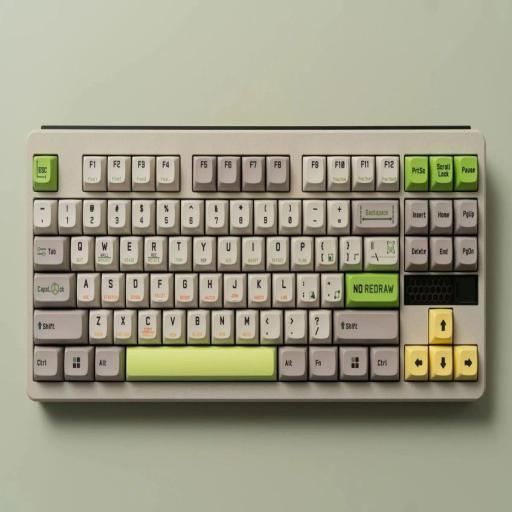keyboard: (24, 110, 492, 410)
